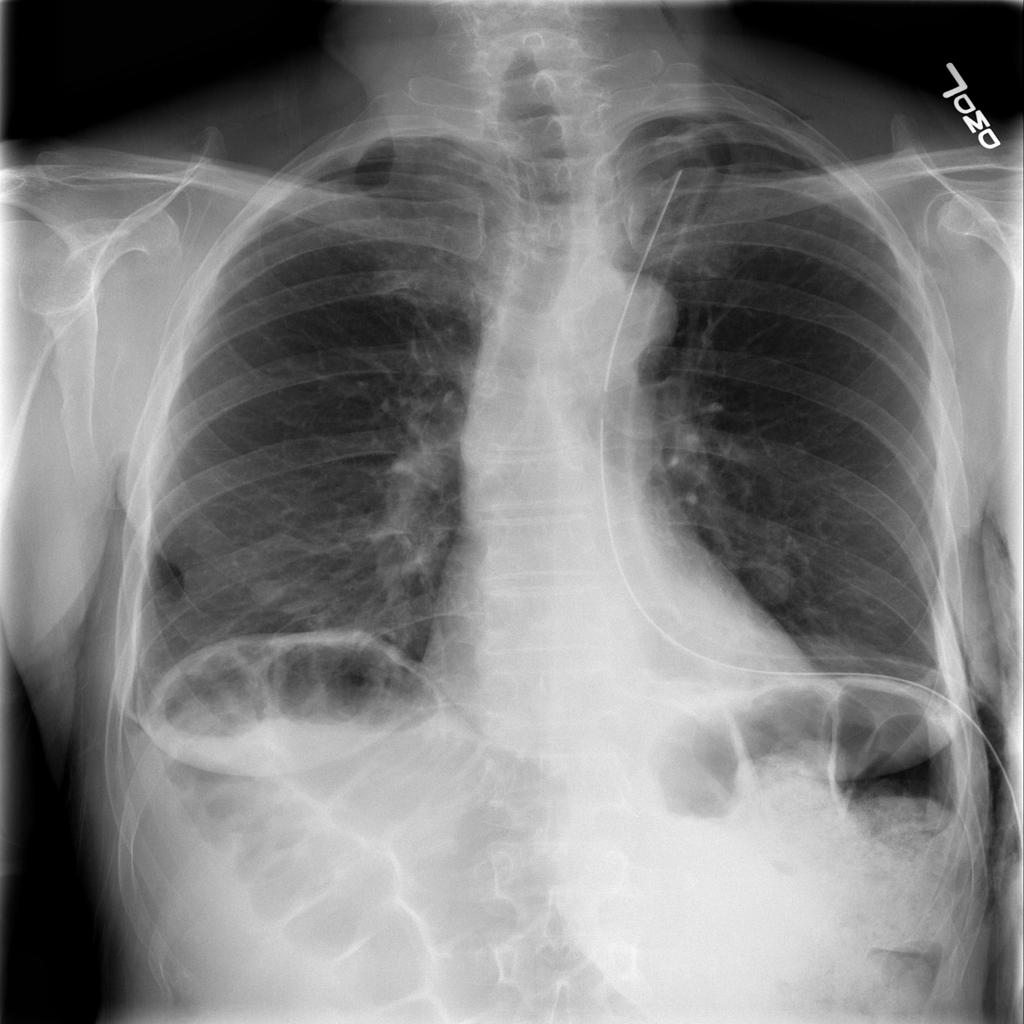nodule: (732, 542, 808, 613), (240, 568, 302, 612)
